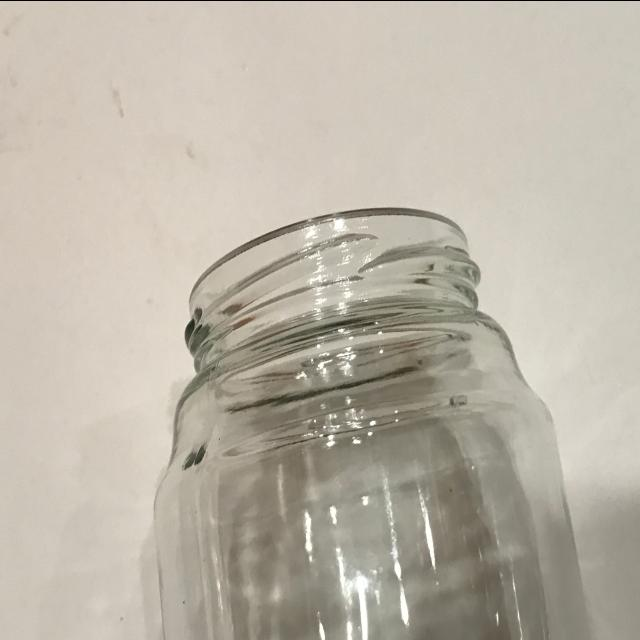glass: (149, 199, 585, 640)
